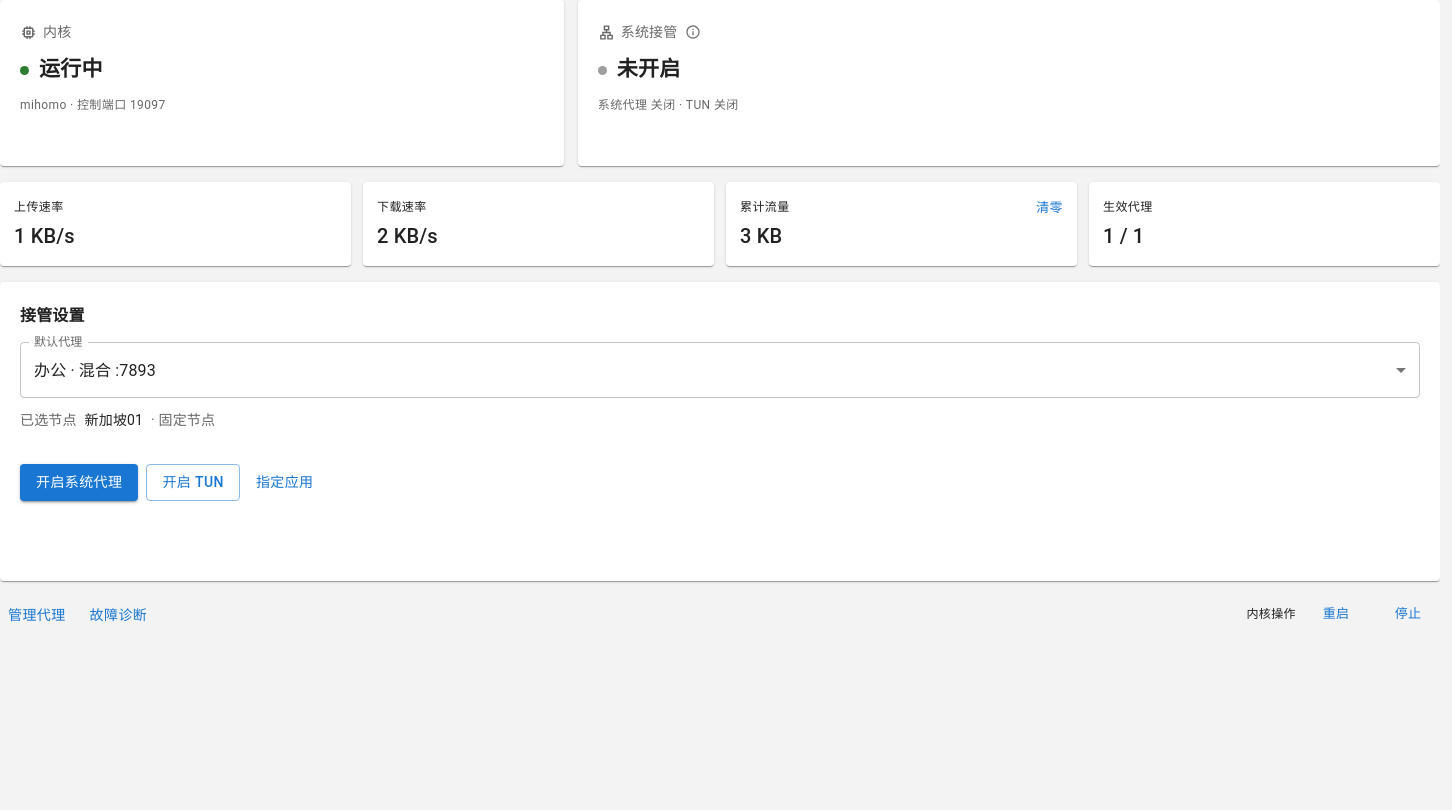
it: switches capture mutually exclusively and closes the active mode using the real command contract
The width and height of the screenshot is (1452, 810).
Step 1. Click the button "开启系统代理" → (79, 482), box [20, 464, 138, 500]
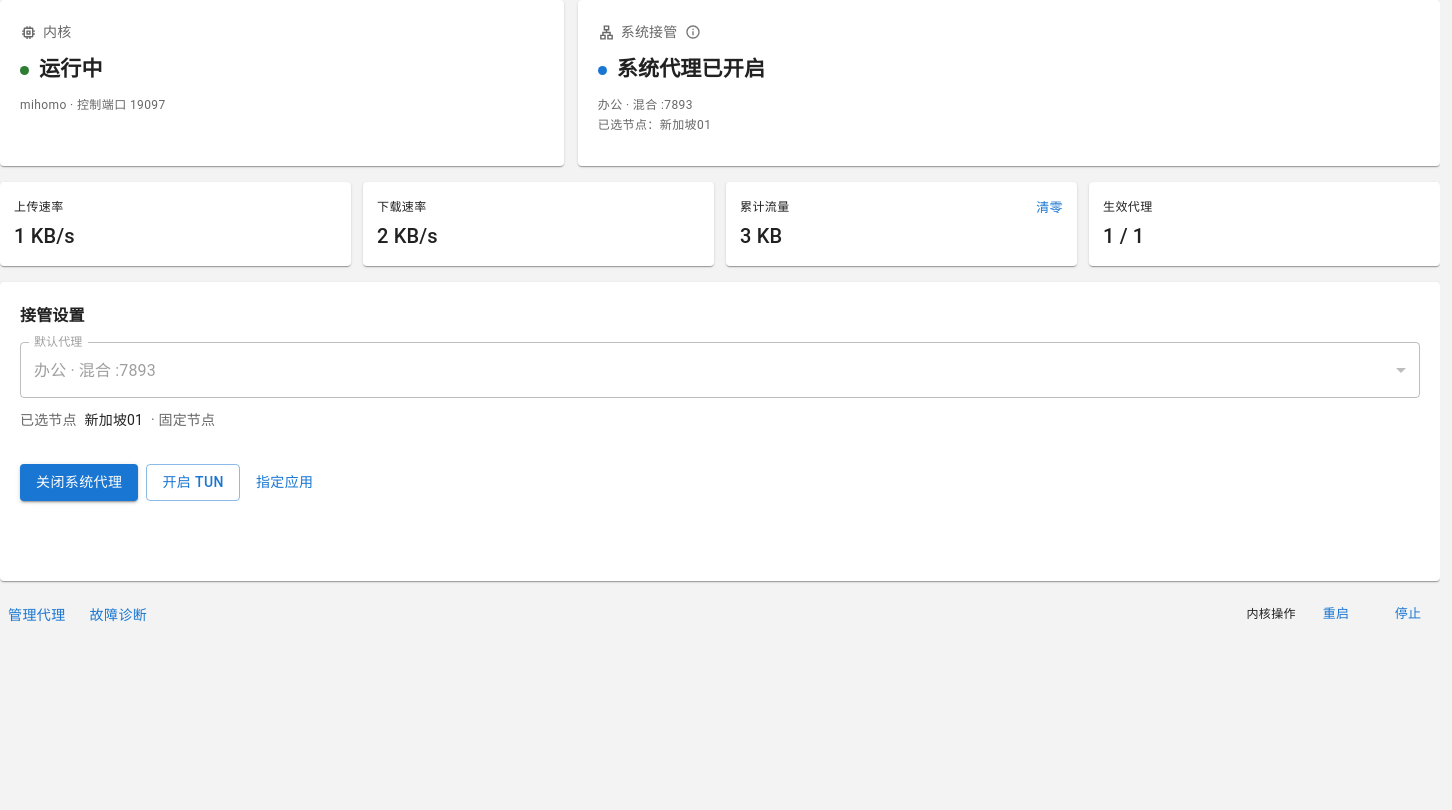
expect the text "系统代理已开启" is shown: met, box [617, 54, 765, 86]
Step 2. Click the button "开启 TUN" → (193, 482), box [146, 464, 240, 500]
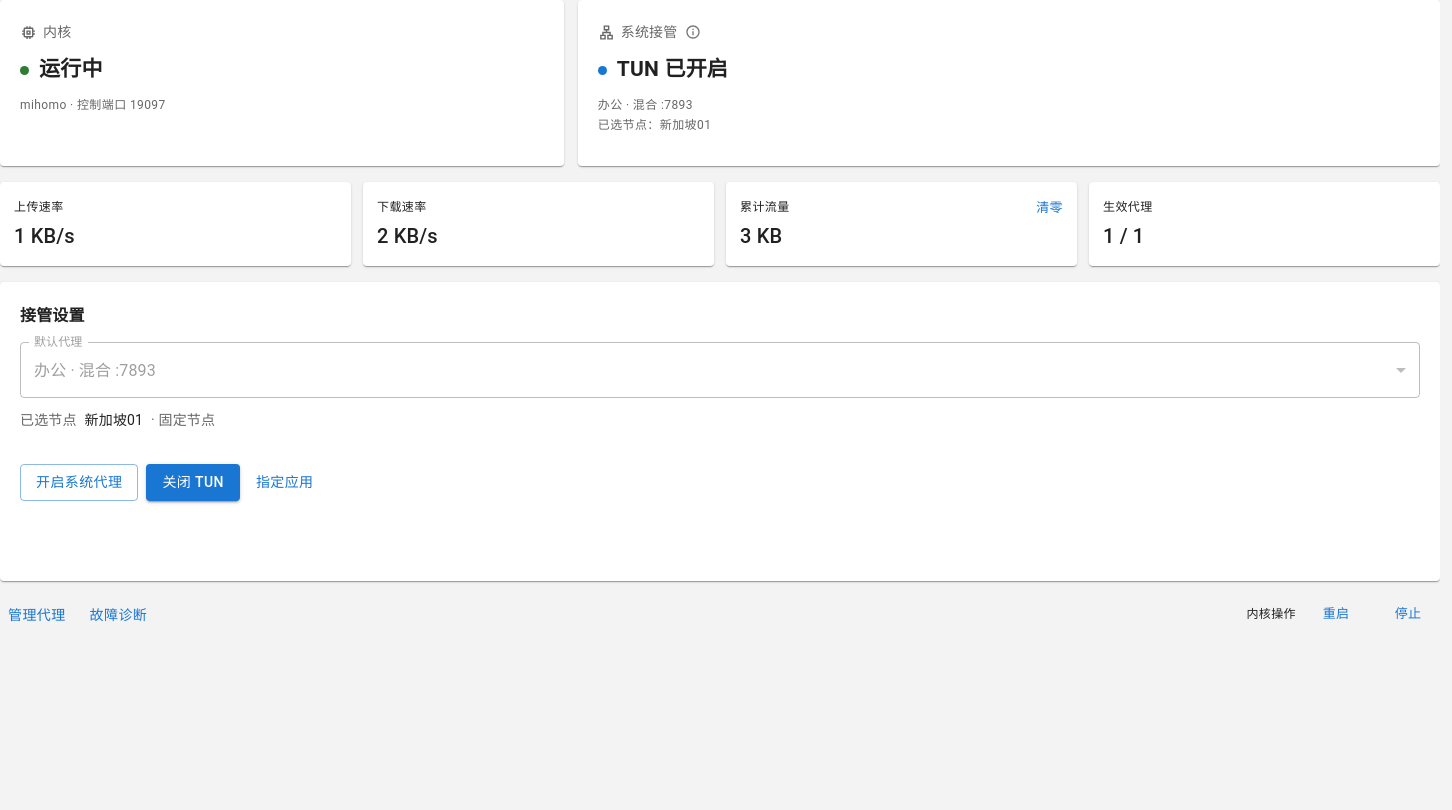
expect the text "TUN 已开启" is shown: met, box [617, 54, 728, 86]
expect the text "系统代理已开启" is gone: met
Step 3. Click the button "关闭 TUN" → (193, 482), box [146, 464, 240, 500]
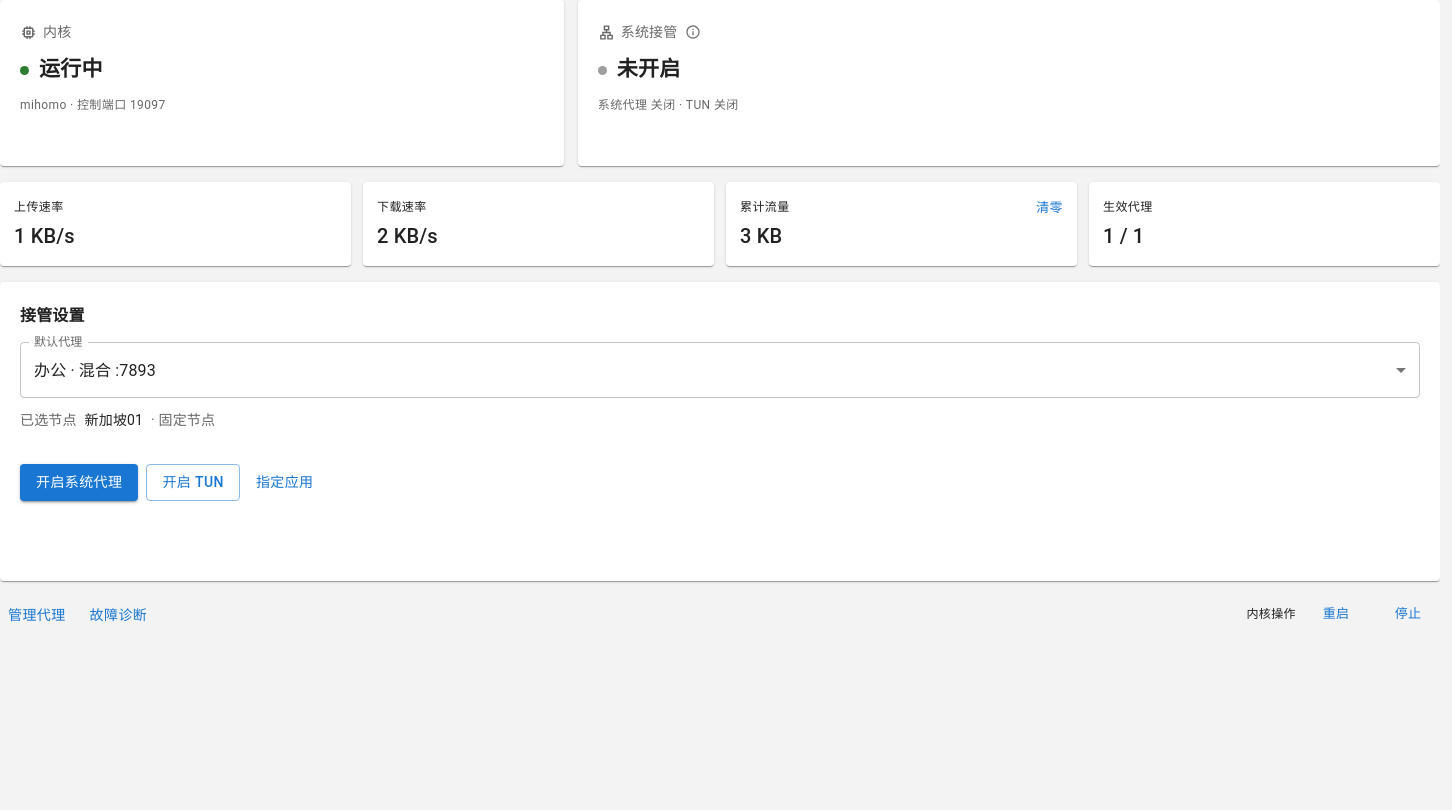
expect the text "未开启" is shown: met, box [617, 54, 680, 86]
